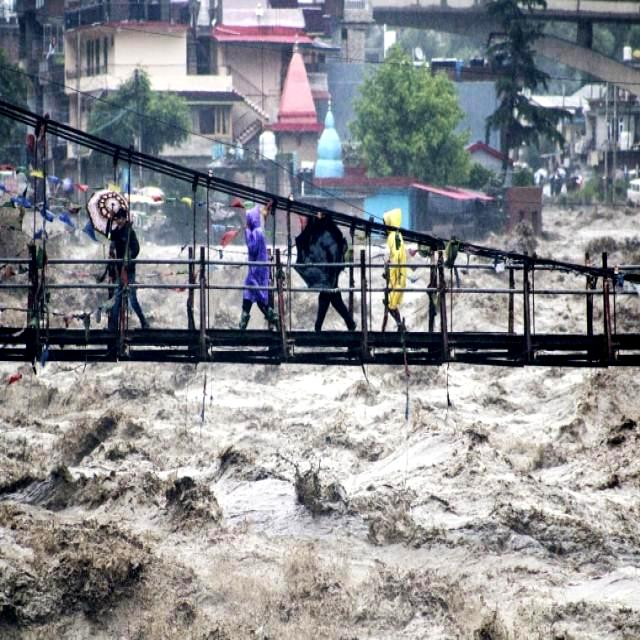civilian: (294, 205, 363, 338), (97, 202, 159, 340), (230, 205, 284, 340), (368, 198, 421, 333)
